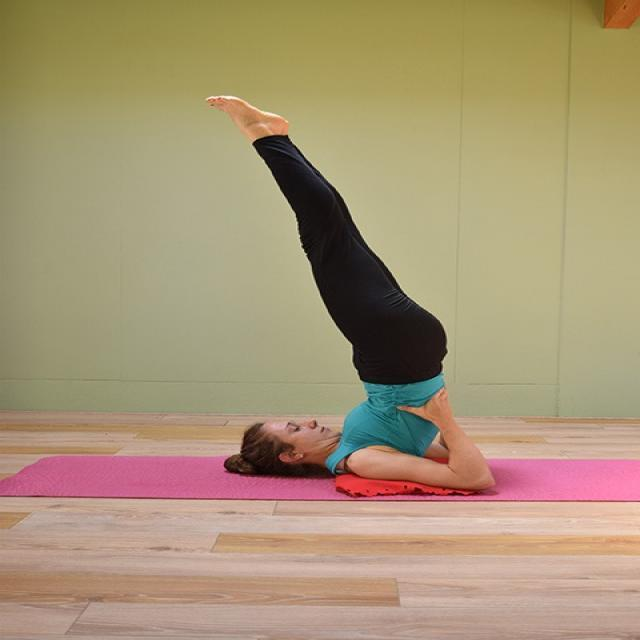yoga-pose shoulderstand: (183, 90, 508, 506)
